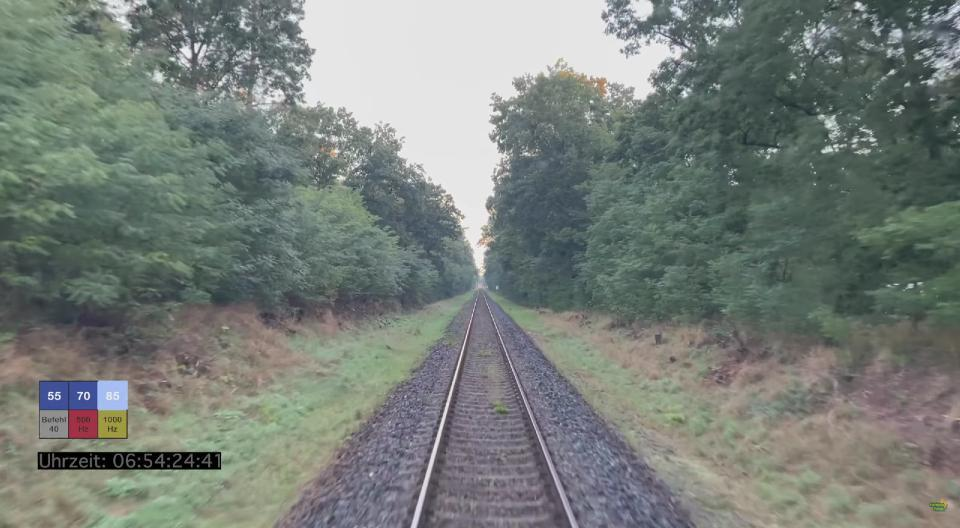Plant: (486, 386, 503, 404), (479, 367, 500, 379), (493, 401, 508, 414), (440, 335, 456, 346), (476, 351, 492, 357)
